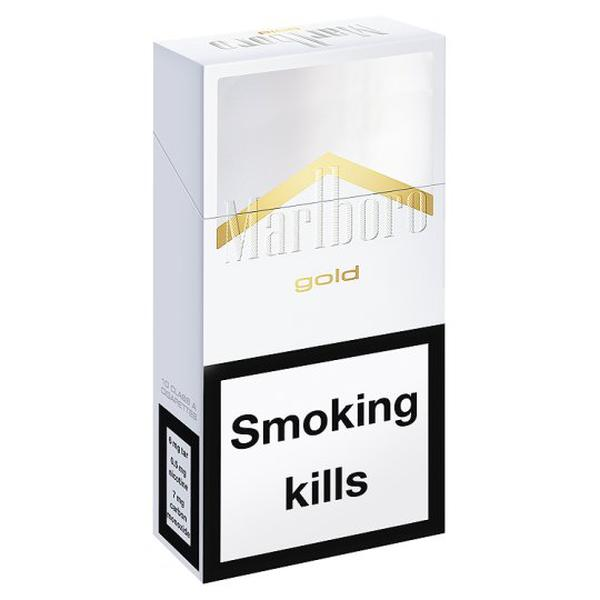marlboro_gold: (207, 49, 442, 534)
